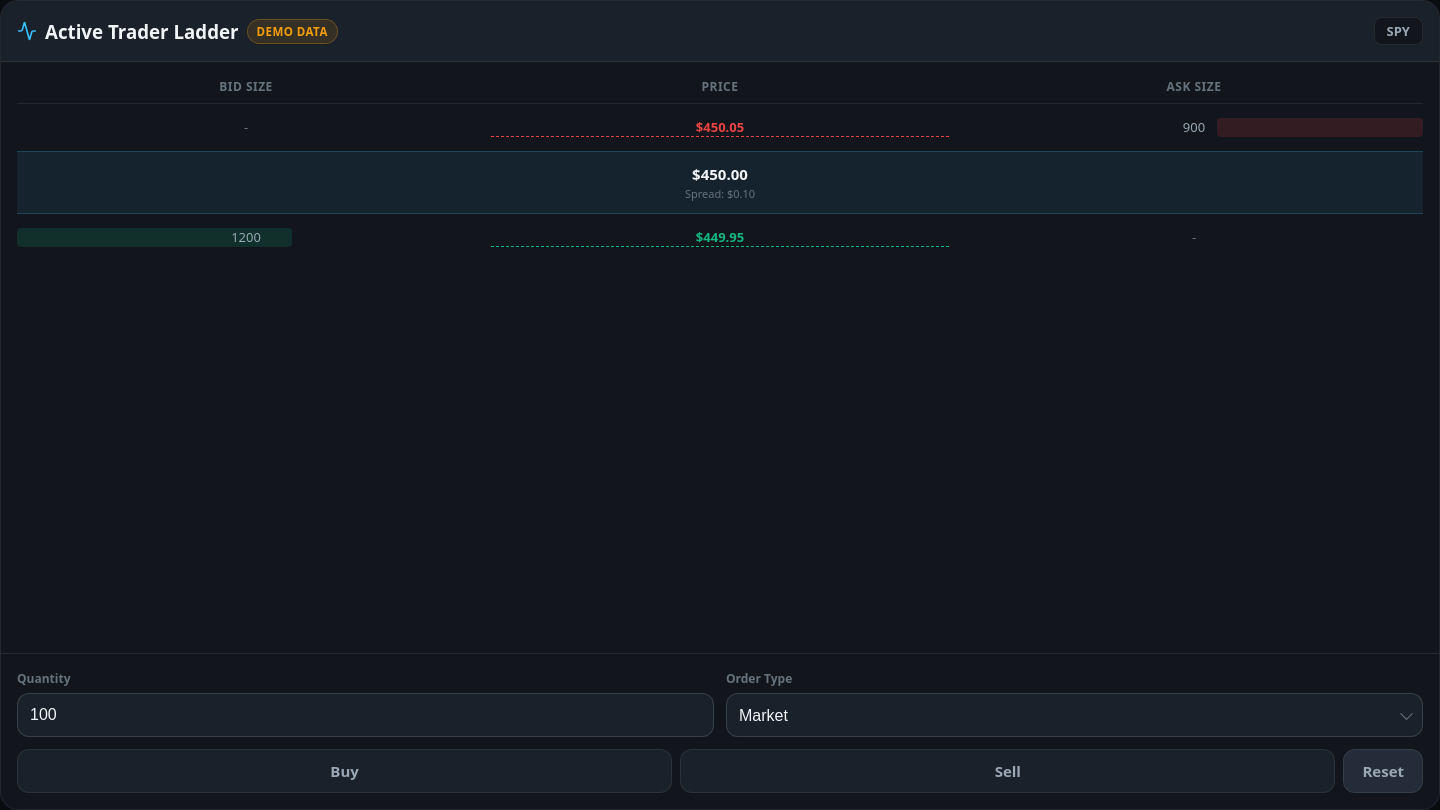
Scenario: ActiveTraderLadder — trade panel › switching to LIMIT with no price staged blocks the command and shows a validation message, not an empty CopyCommandBlock
This screenshot has width=1440, height=810.
Select "Limit" in the dropdown labelled "Order Type" at coordinates (1074, 715), box [726, 693, 1423, 737]
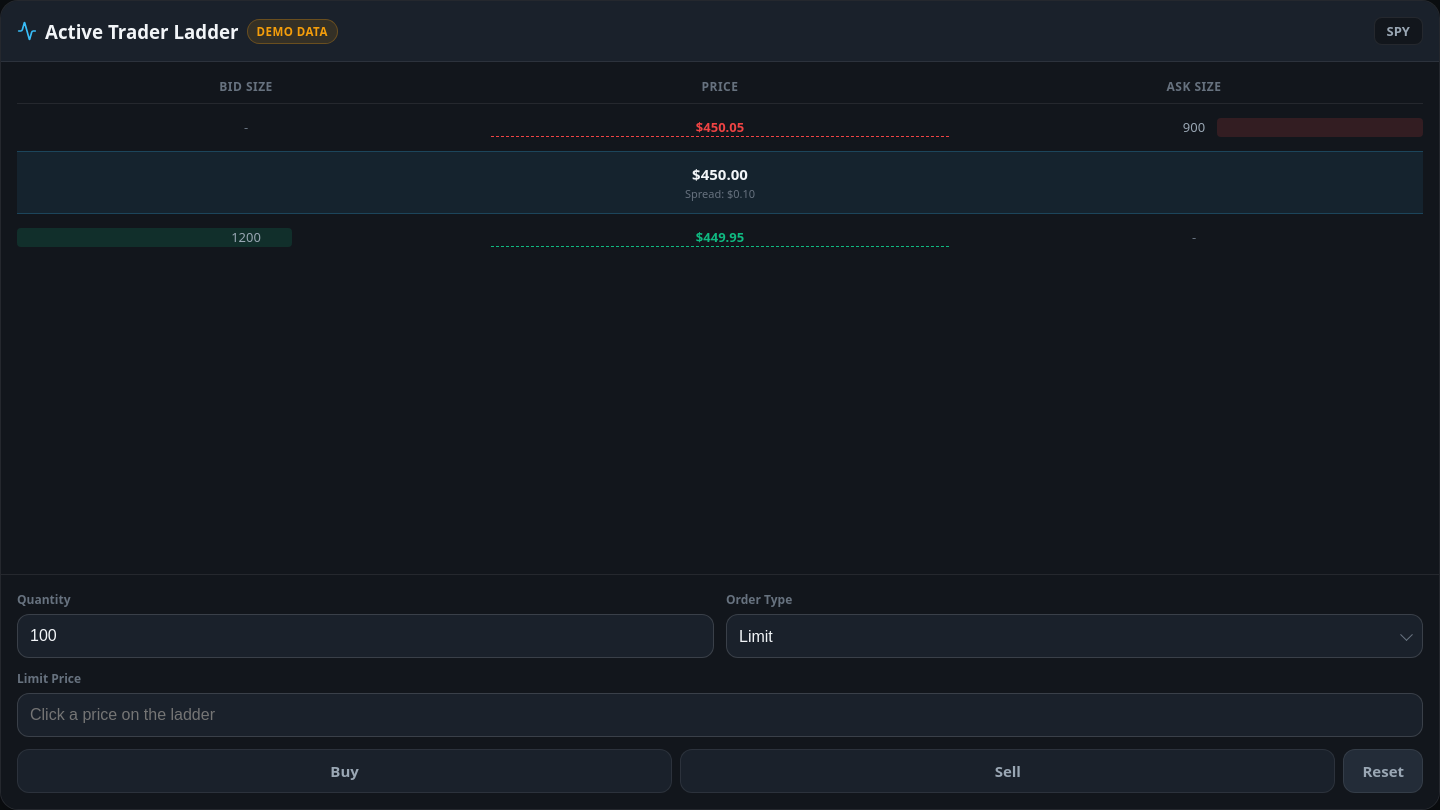
Click the button with test id "ladder-buy-button" at coordinates (345, 771), box [17, 749, 672, 793]
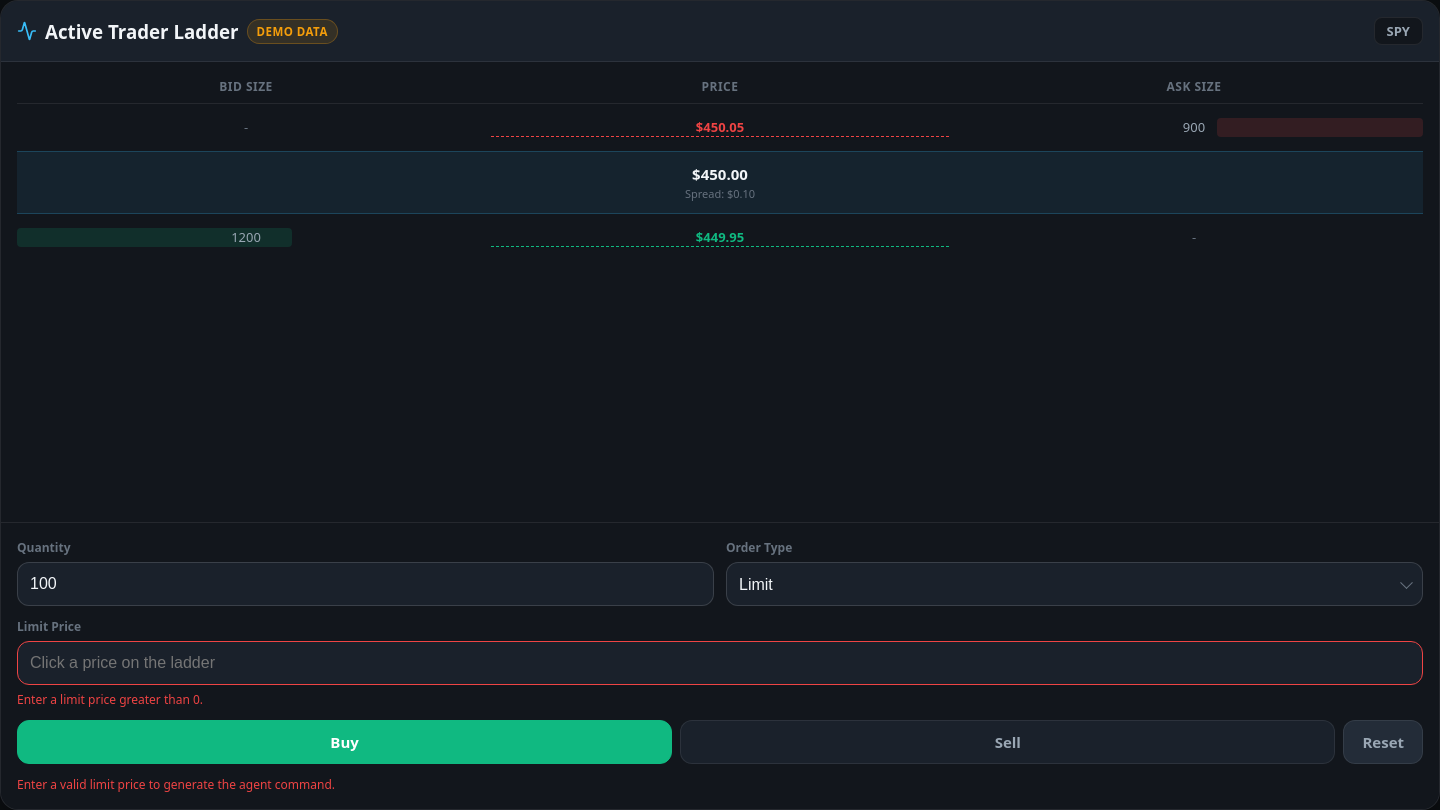
Check: the text "Enter a valid limit price to generate the agent command." is shown, box [17, 776, 335, 793]
